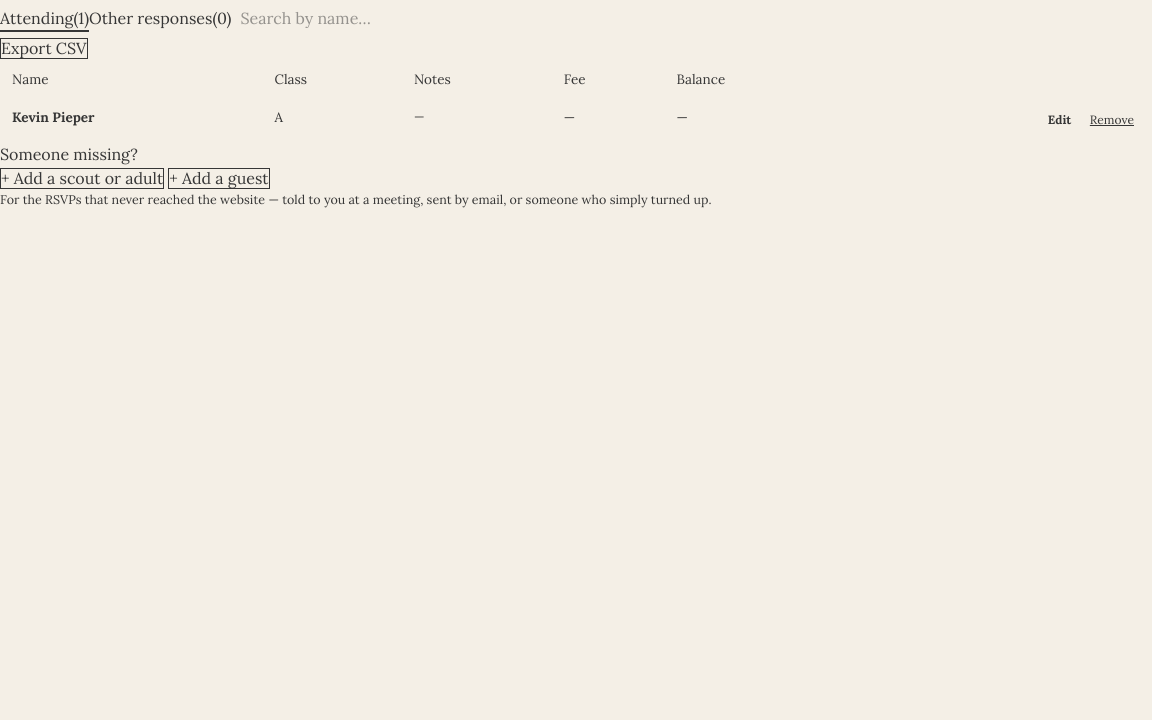
Test case: Roster grid — one column per group set, feature columns only when used › EditDialog_JobList_ShowsWhenHowManyAndWhat_ForEachJob
The image size is (1152, 720).
Click the button "Edit": (1060, 120) [1039,107,1080,133]
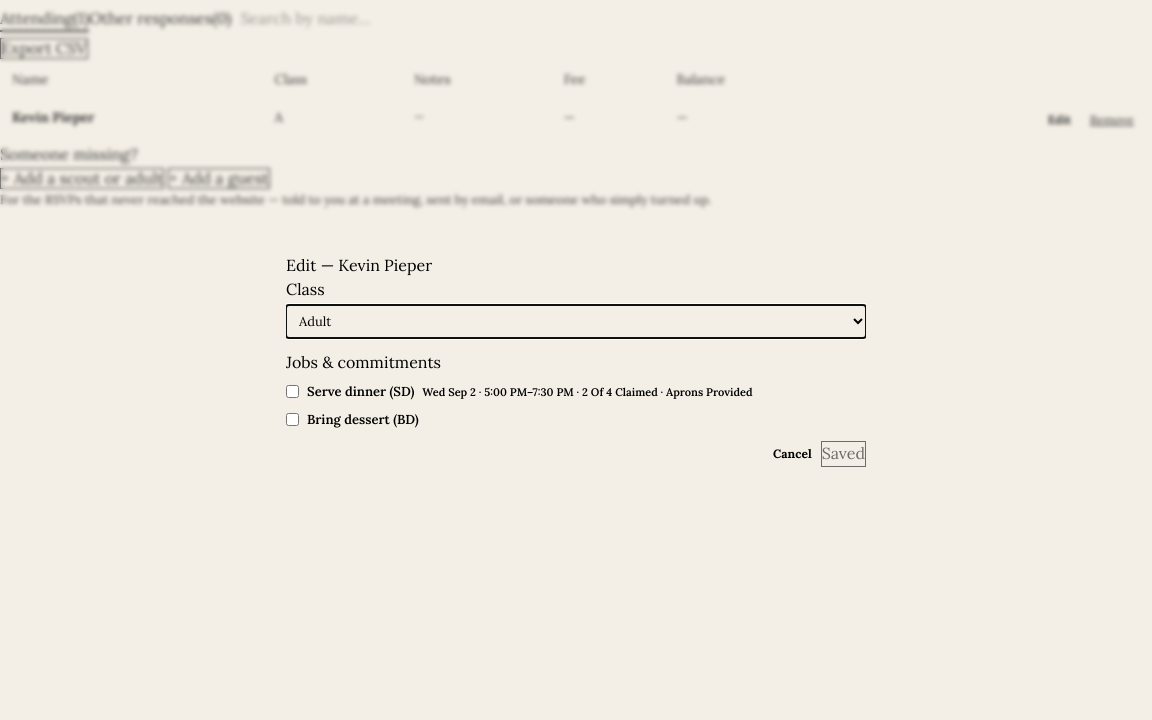
Expected: the text "2 of 4 claimed" shows "Wed Sep 2", [422,384,753,398]
Expected: the text "2 of 4 claimed" shows "5:00 PM–7:30 PM", [422,384,753,398]
Expected: the text "2 of 4 claimed" shows "Aprons provided", [422,384,753,398]
